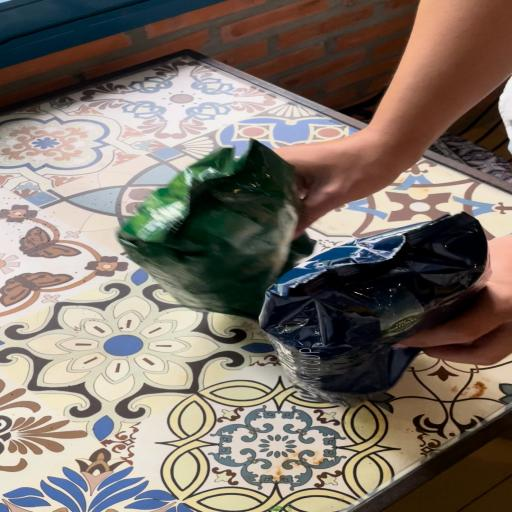cafe_hat: (260, 213, 490, 403)
cafe_xay: (118, 140, 313, 319)
